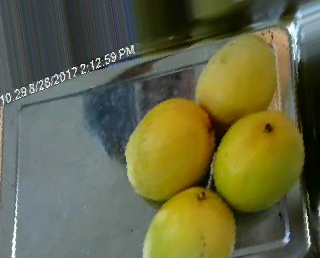Mango: (122, 92, 213, 201), (212, 111, 306, 208), (194, 36, 276, 128), (137, 187, 236, 256)
